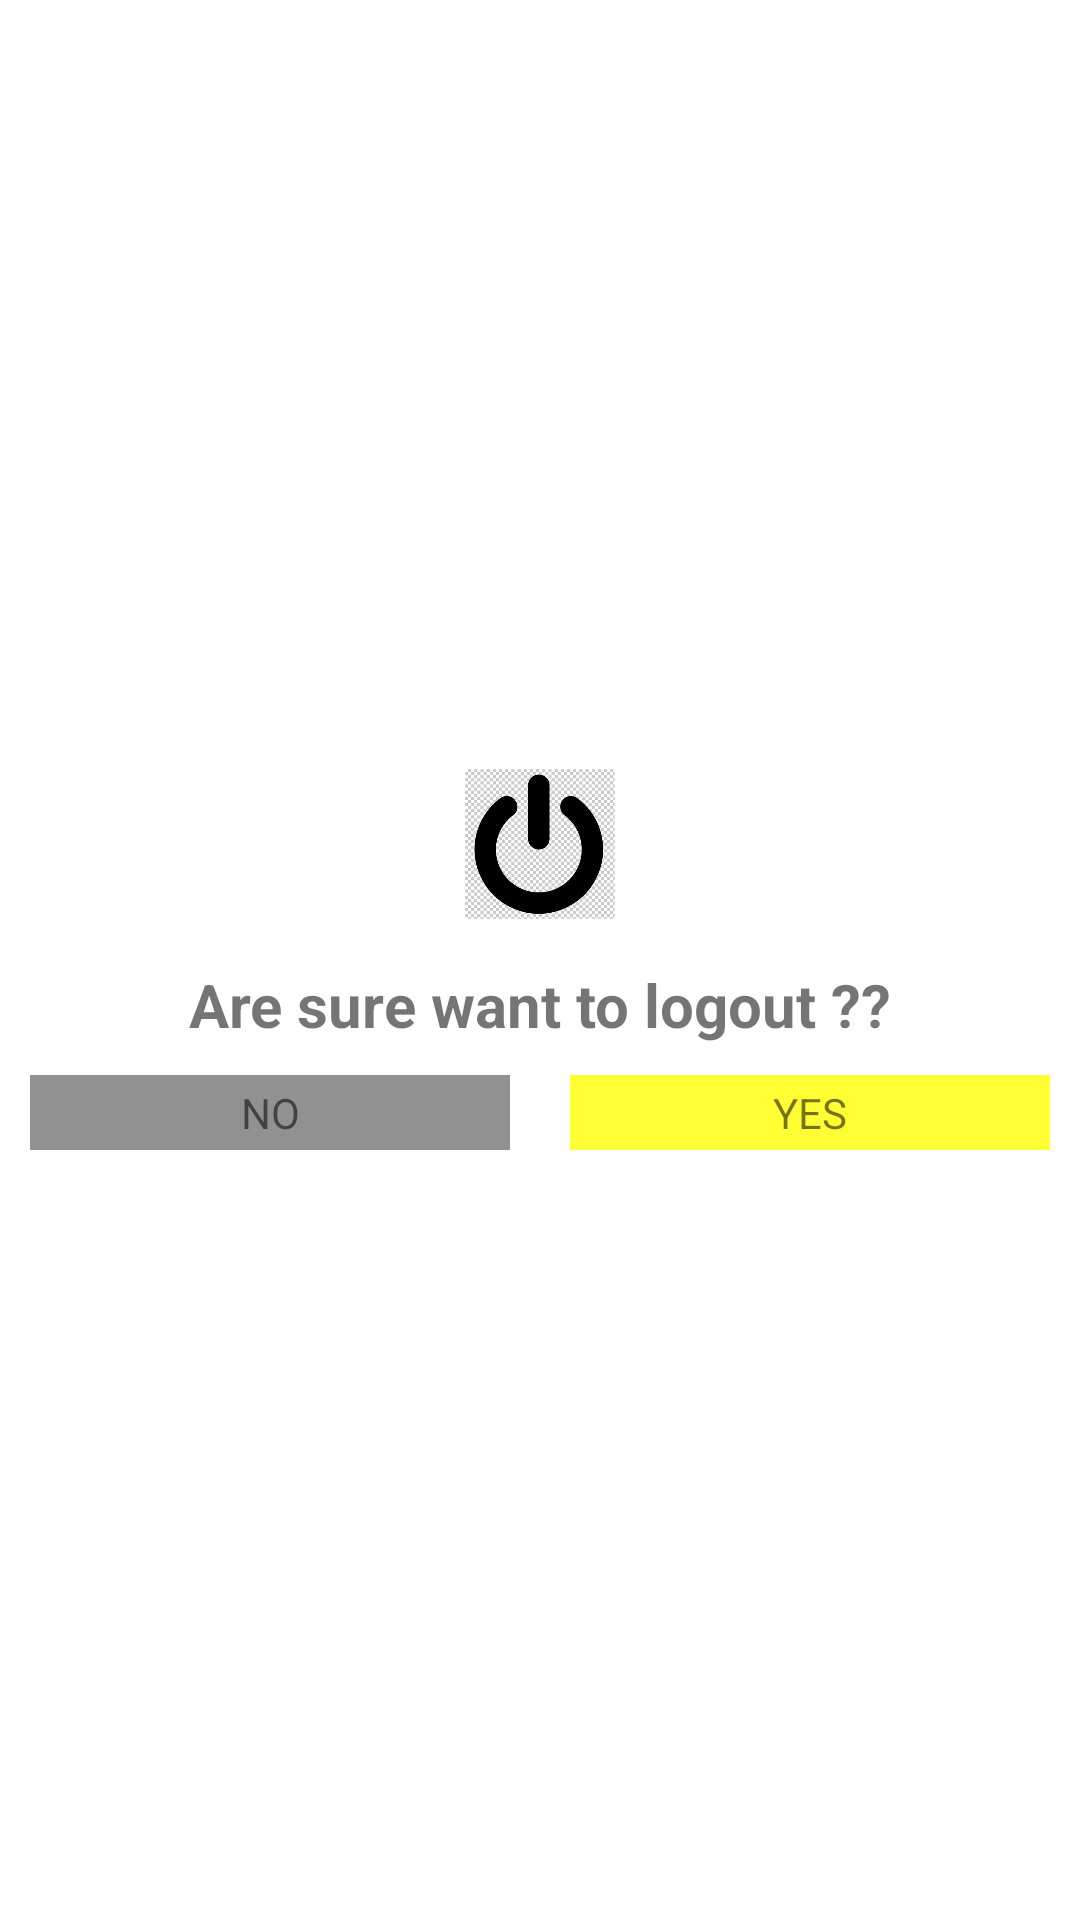

Named icons in this screenshot (1080 × 1920) and their centers, point (x, y):
off: point (540, 844)
